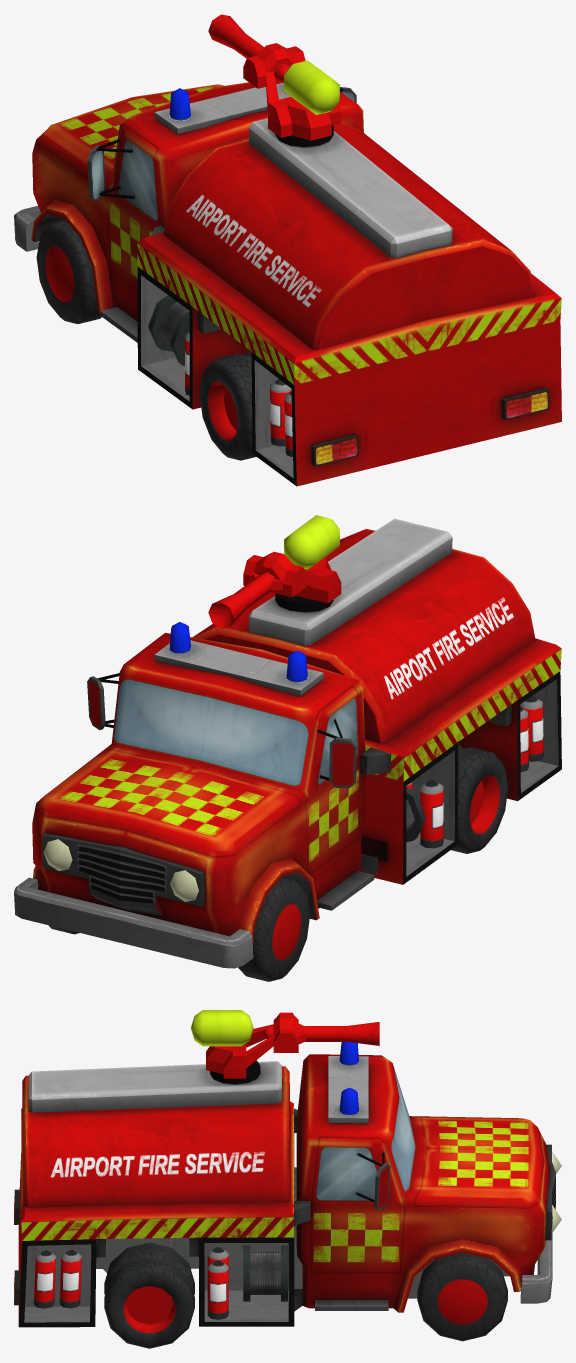
The model's file is Truck_Firefighter.fbx.
The picture shows the model from 3 angles, top to bottom: view 1: azimuth 30°, elevation 25°; view 2: azimuth 150°, elevation 25°; view 3: azimuth 270°, elevation 25°; orthographic projection. The views are drawn at different scales.
Visible parts, largest first — view 1: Truck, Torrent_Main, Wheel_Back, Wheel_Front_L, Torrent; view 2: Truck, Torrent_Main, Wheel_Front_L, Wheel_Back, Torrent; view 3: Truck, Wheel_Back, Wheel_Front_R, Torrent_Main, Torrent.
Part boxes in pixels (x1,y1,x2,y2): Truck: (14, 82, 561, 486); Torrent_Main: (243, 43, 341, 140); Wheel_Back: (199, 350, 256, 460); Wheel_Front_L: (36, 219, 101, 323); Torrent: (208, 14, 290, 82); Truck: (14, 518, 561, 968); Torrent_Main: (243, 515, 341, 603); Wheel_Front_L: (238, 877, 309, 981); Wheel_Back: (451, 744, 508, 853); Torrent: (208, 572, 274, 628); Truck: (14, 1042, 561, 1327); Wheel_Back: (104, 1242, 194, 1348); Wheel_Front_R: (417, 1252, 507, 1341); Torrent_Main: (190, 1010, 305, 1078); Torrent: (262, 1022, 379, 1045).
Bounding box in the file's own units: 18.29 × 21.13 × 37.16.
